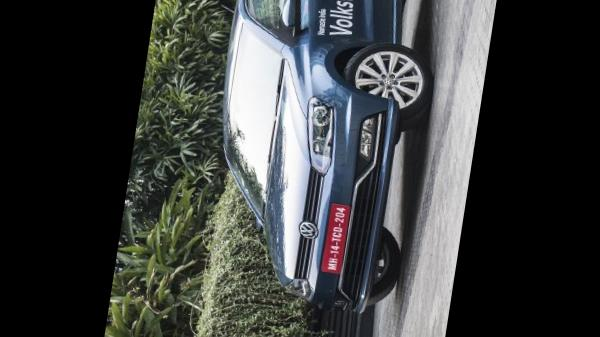plate: (314, 192, 362, 281)
